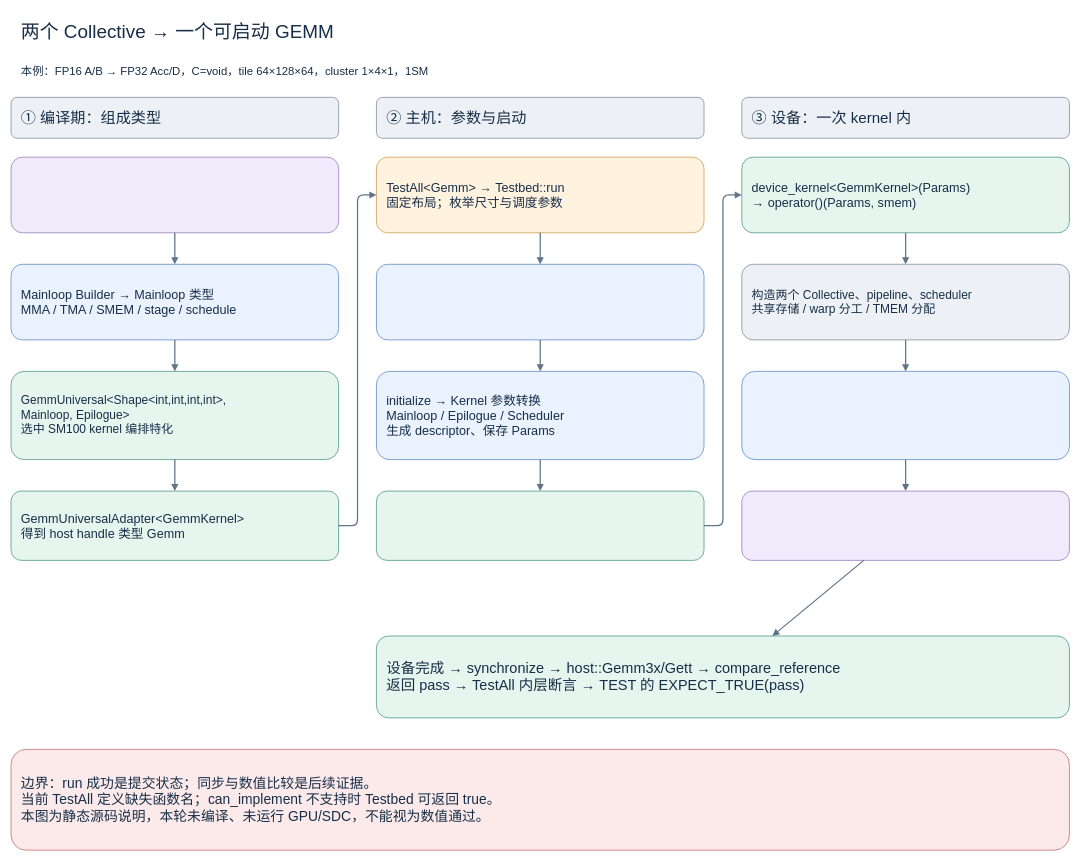
Some shapes in this 1080 by 861 pixel diagram are drawn without their labels. The centre of each missing label's shape, as x and y in pixels:
Arguments + workspace + can_implement A/B/D 指针、stride、MNKL、标量: pixel 540 302
Epilogue Builder → Epilogue 类型 输出类型 / fusion / SMEM / subtile: pixel 174 195
Epilogue：TMEM → RMEM → fusion → SMEM D → TMA store → GMEM D: pixel 905 525
MainloopLoad：GMEM → SMEM MMA：SMEM → UMMA → TMEM 发布 accumulator ready: pixel 905 415
run → grid / block / cluster / SMEM ClusterLauncher → CUDA launch: pixel 540 525
